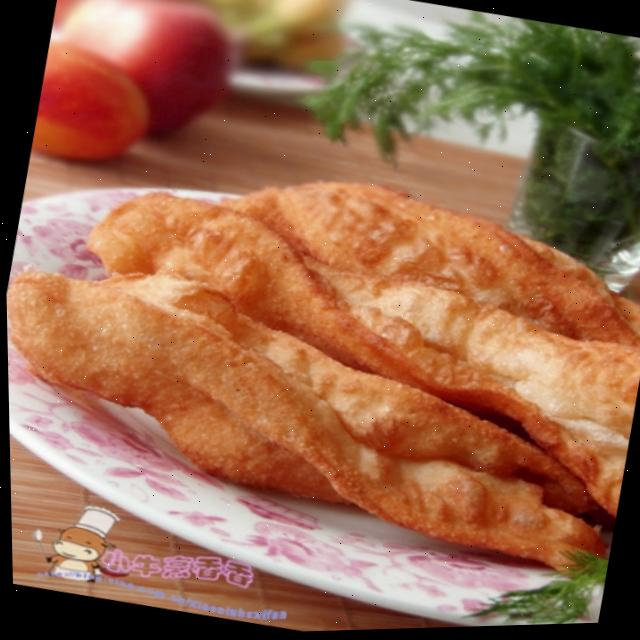炸货点心: (2, 117, 640, 614)
